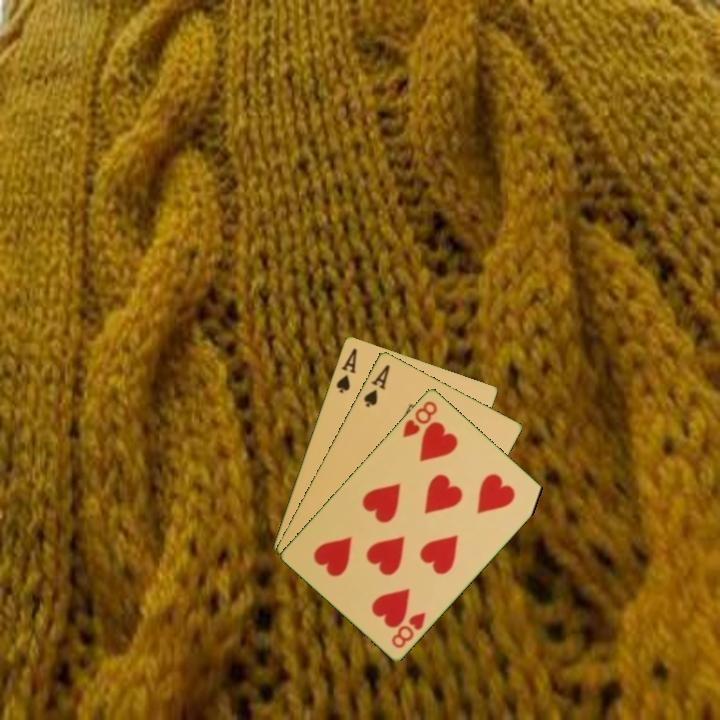8h: (399, 397, 440, 441), (388, 608, 429, 651)
As: (360, 361, 393, 410), (332, 344, 360, 396)
